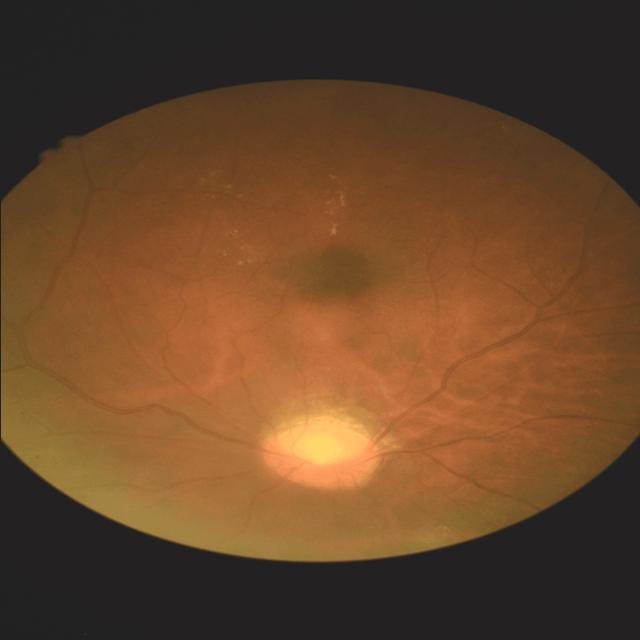cup: (278, 430, 369, 470)
disk: (260, 421, 382, 493)
